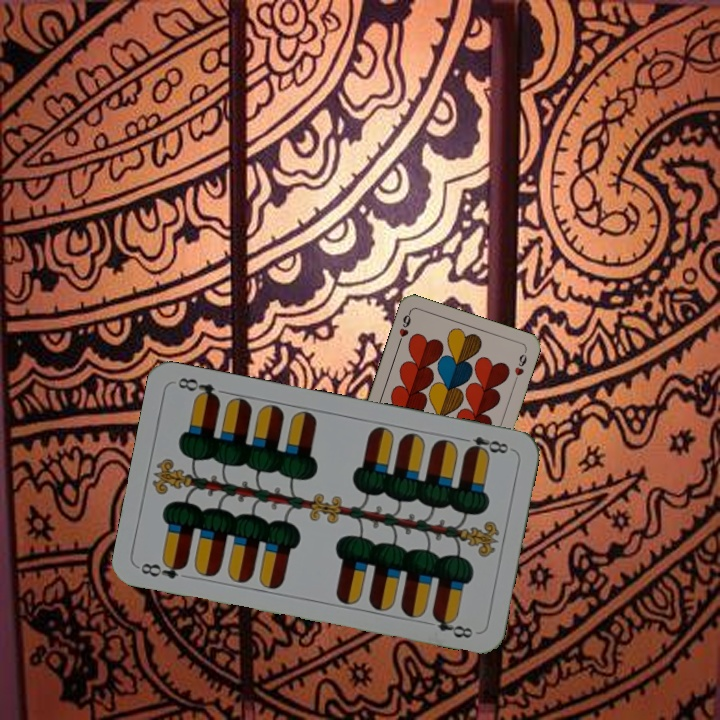E8: (456, 432, 512, 458), (136, 556, 189, 582)
H9: (394, 308, 413, 348)
